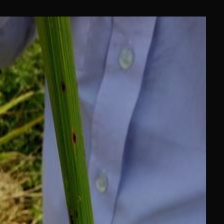Bacterial_Leaf_Blight: (68, 123, 79, 145), (67, 202, 78, 224), (62, 76, 67, 90)
